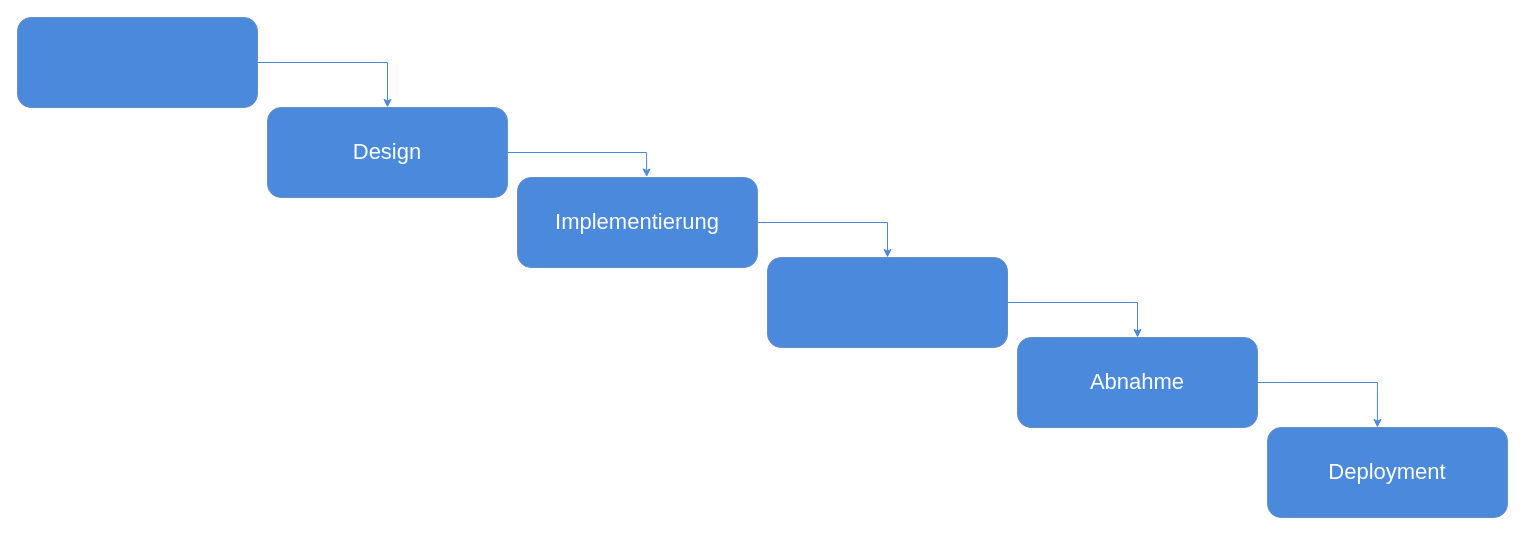
The diagram is 1525 pixels wide and 535 high, and some of its shapes have lost their labels. The shapes that lost their labels are listed below. From the top down, each one's box as (x1, y1, x2, y2) in pixels, then its label:
(16, 16, 258, 108): Anforderungsanalyse
(766, 256, 1008, 348): Test
